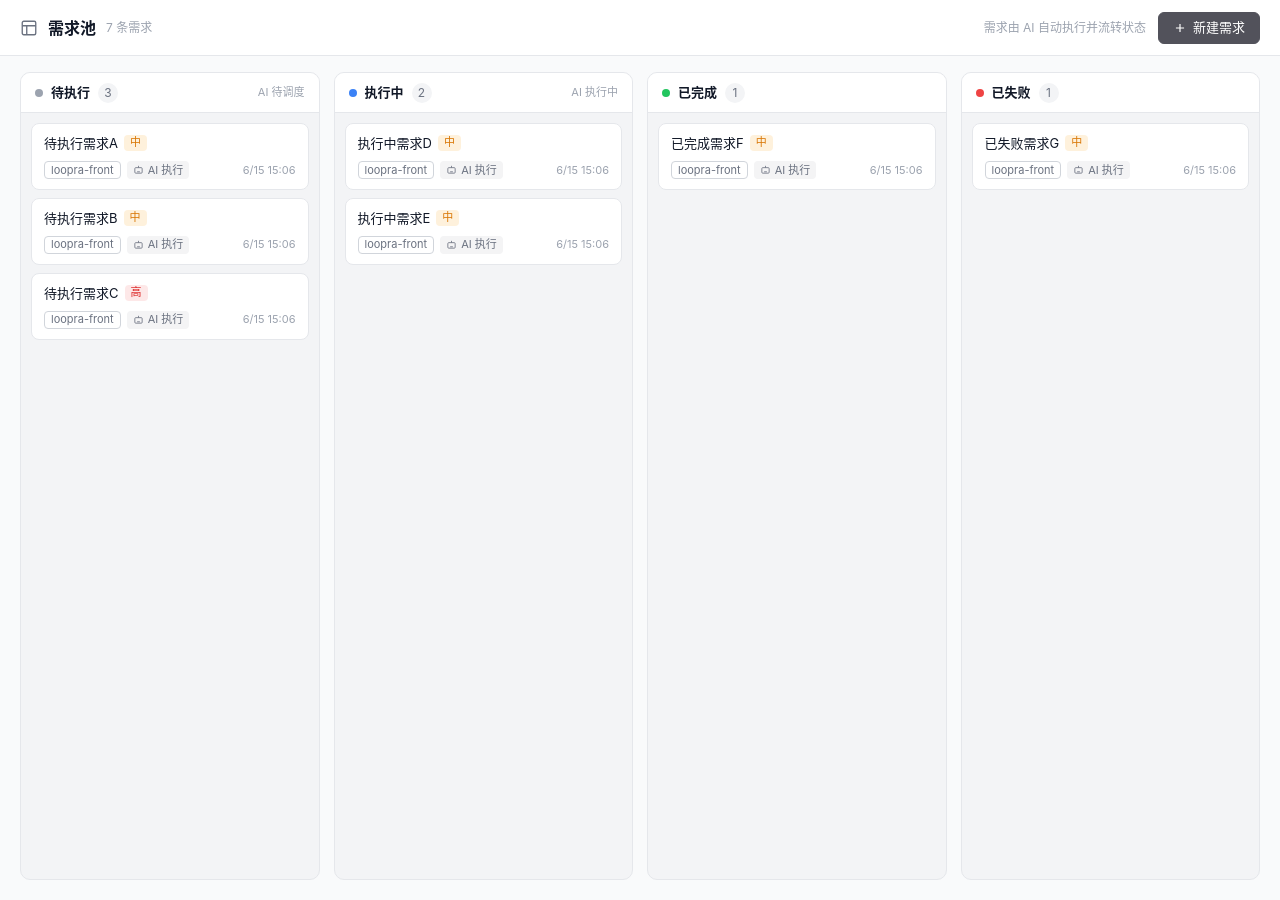
RequirementBoard 需求池看板（后端数据） › 评论 tab 为看板风格条目（头像/作者/时间），执行日志 tab 为聊天消息流
The image size is (1280, 900).
Click the element with class "req-card" that starts with "待执行需求A" at (170, 156), box [31,123,308,190]
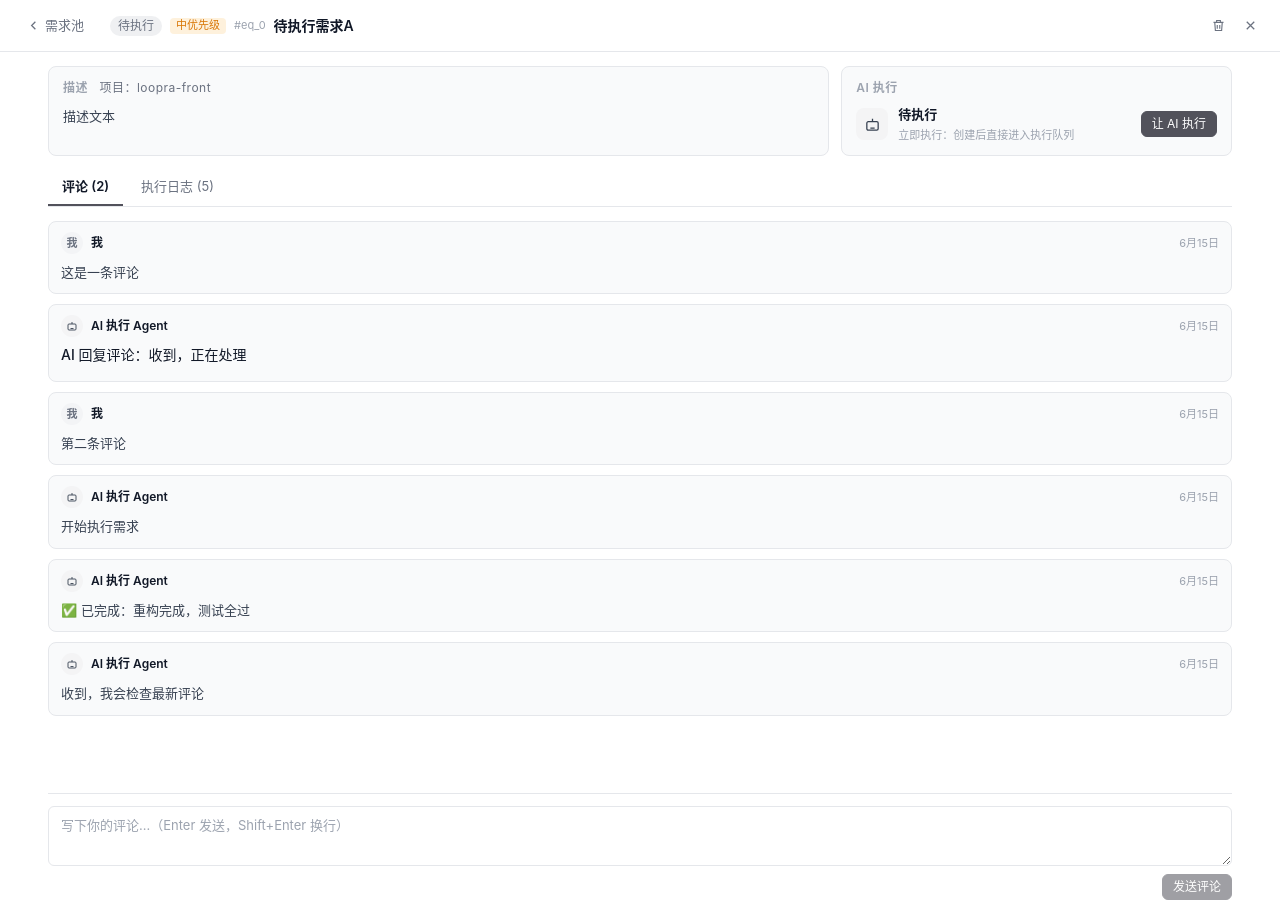
Expected: the number of elements with class "req-comment" is 6, [48,221,1232,294]; [48,304,1232,382]; [48,392,1232,465]; [48,476,1232,549]; [48,559,1232,632]; [48,642,1232,716]
Expected: the 2nd text with class "req-comment-author" reads "我", [91,235,103,250]
Expected: the element with class "req-comment-text" reads "这是一条评论", [61,264,139,280]
Click the button with class "req-detail-tab" showing "执行日志 (5)" at (178, 188), box [127,170,228,206]
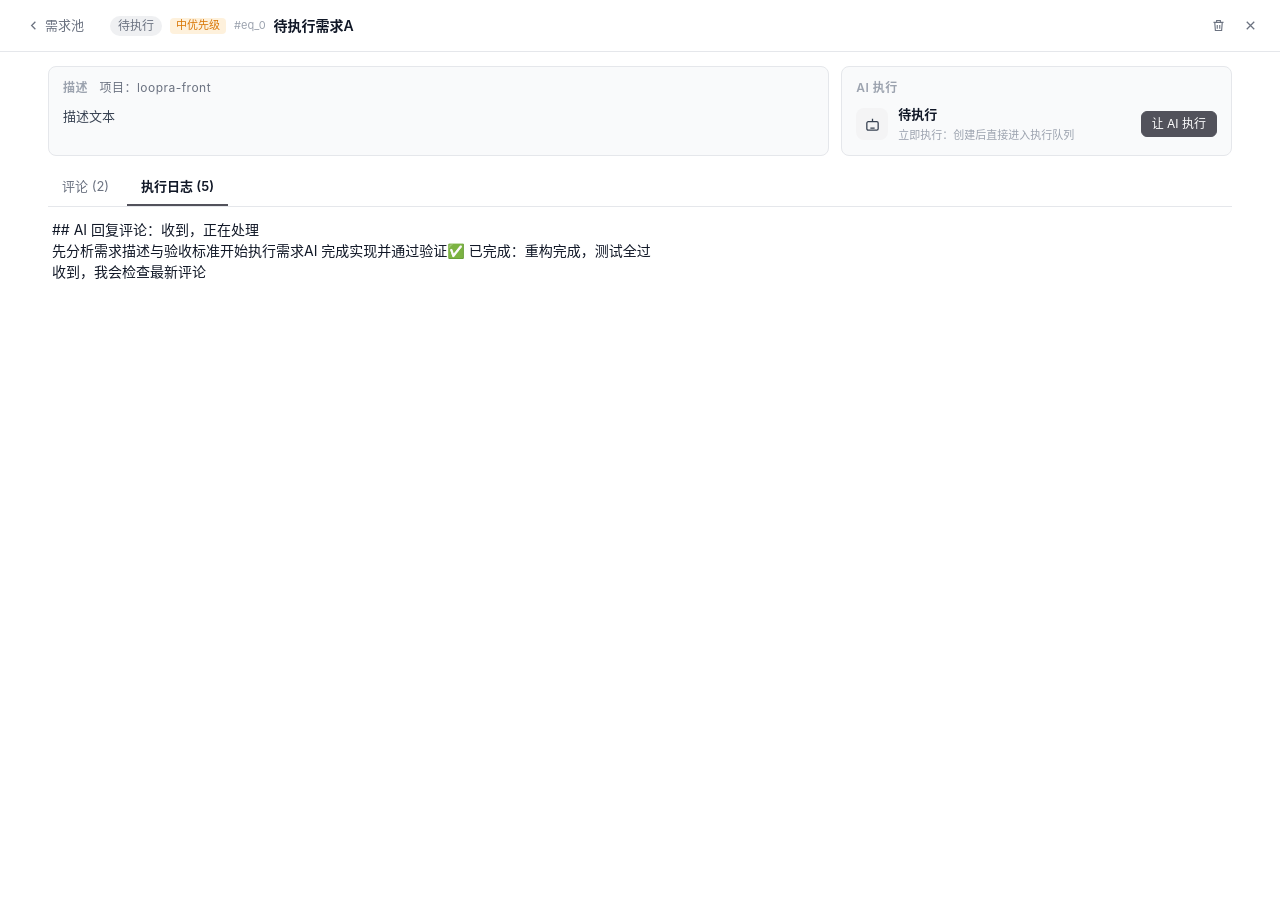
Expected: the number of elements with class "stub-msg" is 3, [52,221,259,238]; [52,242,651,259]; [52,263,206,280]
Expected: the text with class "stub-msg" shows "AI 完成实现并通过验证", [52,242,651,259]
